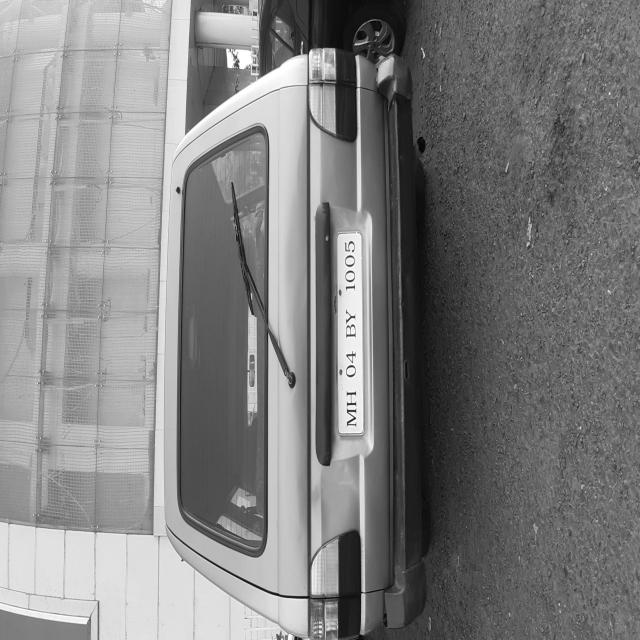car: (0, 322, 296, 640)
